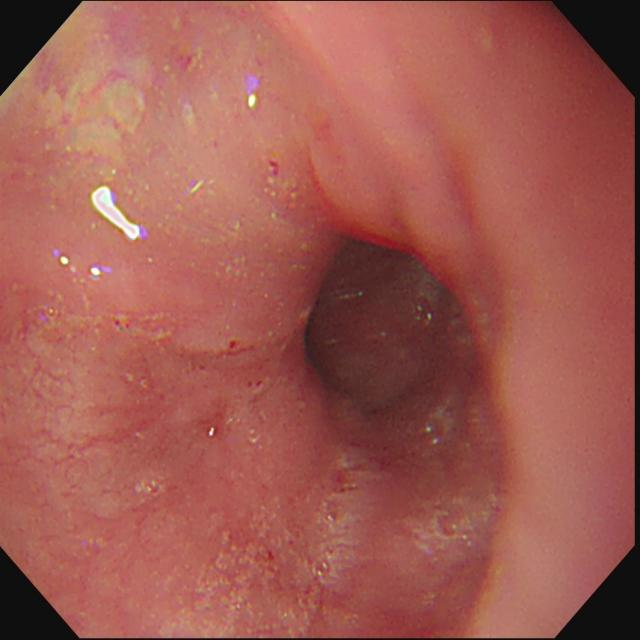E: (299, 231, 470, 425)
T: (312, 502, 350, 583)
U: (91, 186, 141, 246), (88, 267, 111, 280), (56, 251, 70, 269), (248, 92, 258, 109)
